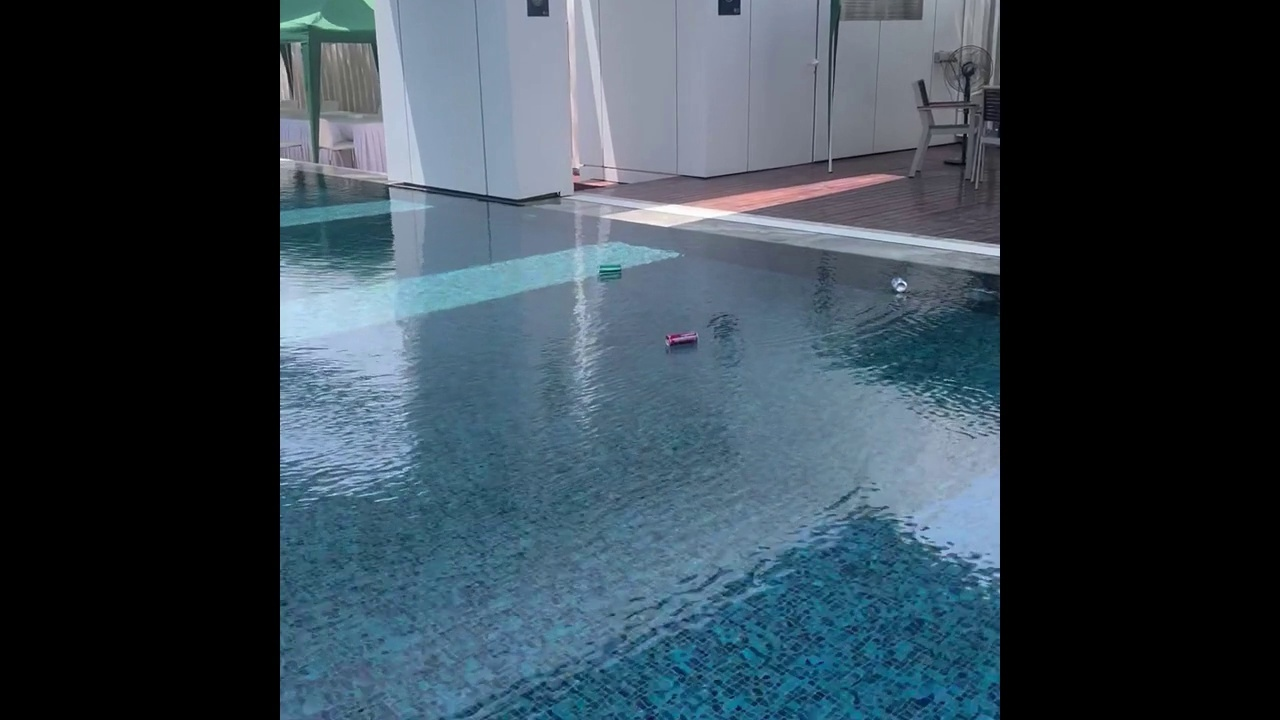debris: (660, 325, 702, 354), (595, 261, 625, 281), (888, 275, 909, 295)
